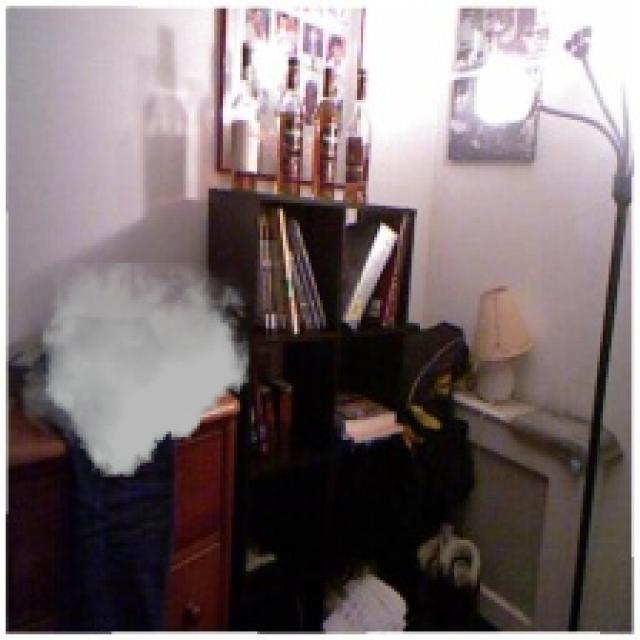smoke: (14, 263, 254, 477)
